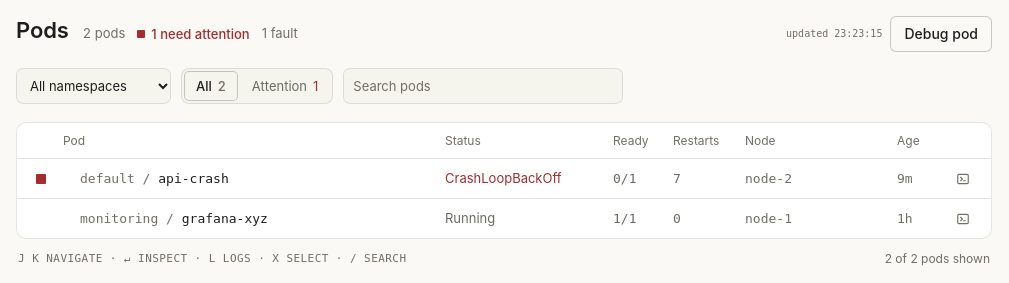
PodsView › the attention filter hides healthy rows and carries the honest count
This screenshot has width=1009, height=283.
Click the button "Attention 1". click: (285, 86)
box: [240, 71, 330, 101]
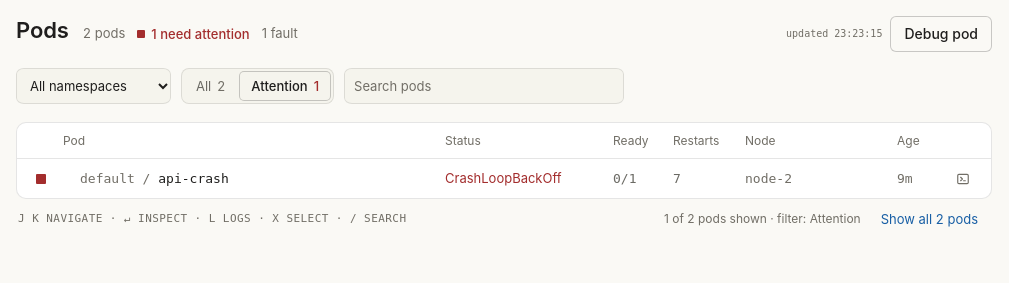
expect the text "api-crash" is shown: met, box [158, 170, 229, 186]
expect the button "grafana-xyz" is gone: met
